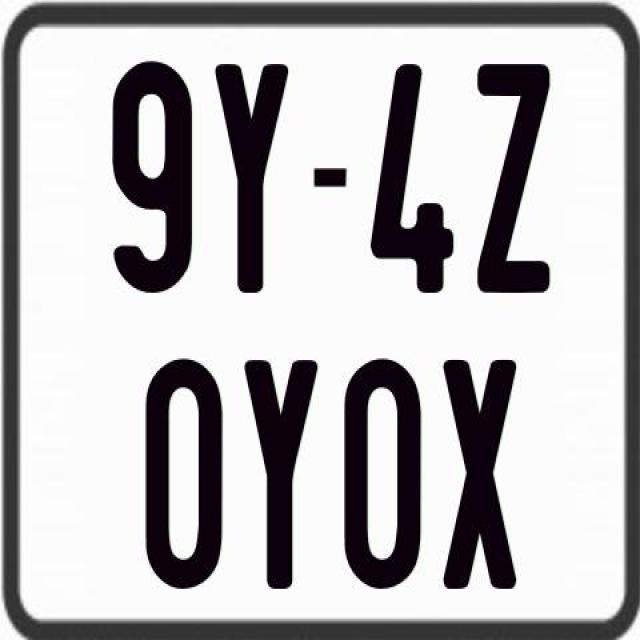0: (141, 355, 219, 592), (343, 357, 421, 587)
4: (367, 64, 453, 299)
9: (109, 61, 195, 299)
X: (443, 355, 517, 589)
Y: (243, 360, 317, 594), (216, 60, 288, 295)
Z: (475, 59, 553, 289)
